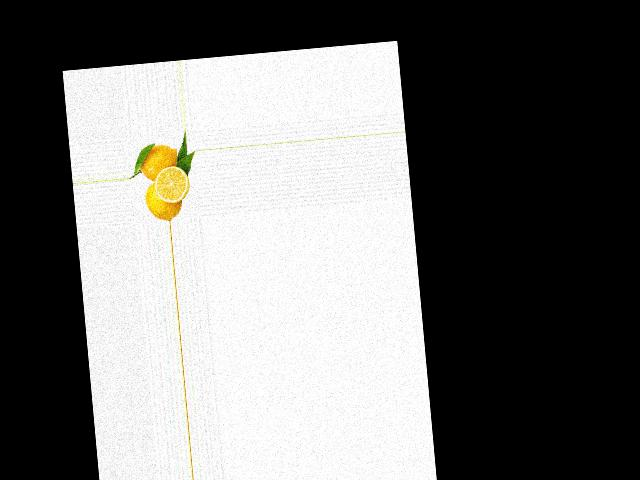lemon: (144, 181, 186, 222)
